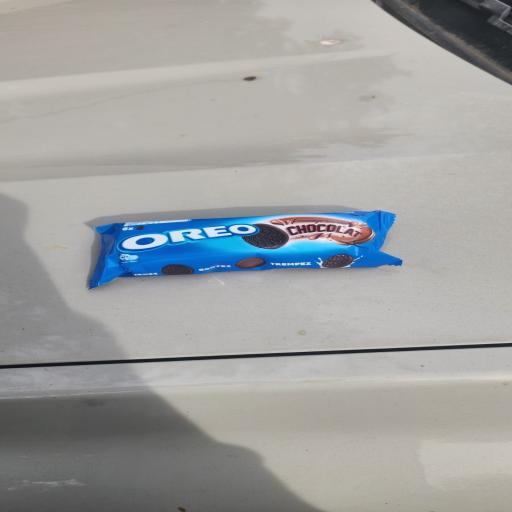oreo: (54, 173, 487, 335)
